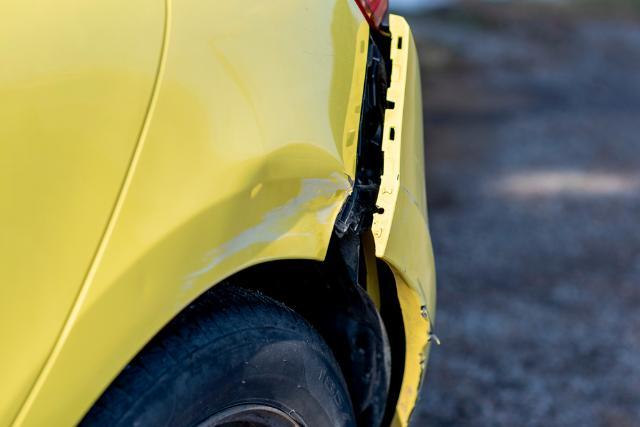dent: (183, 143, 350, 302)
dislocated part: (314, 12, 413, 256)
